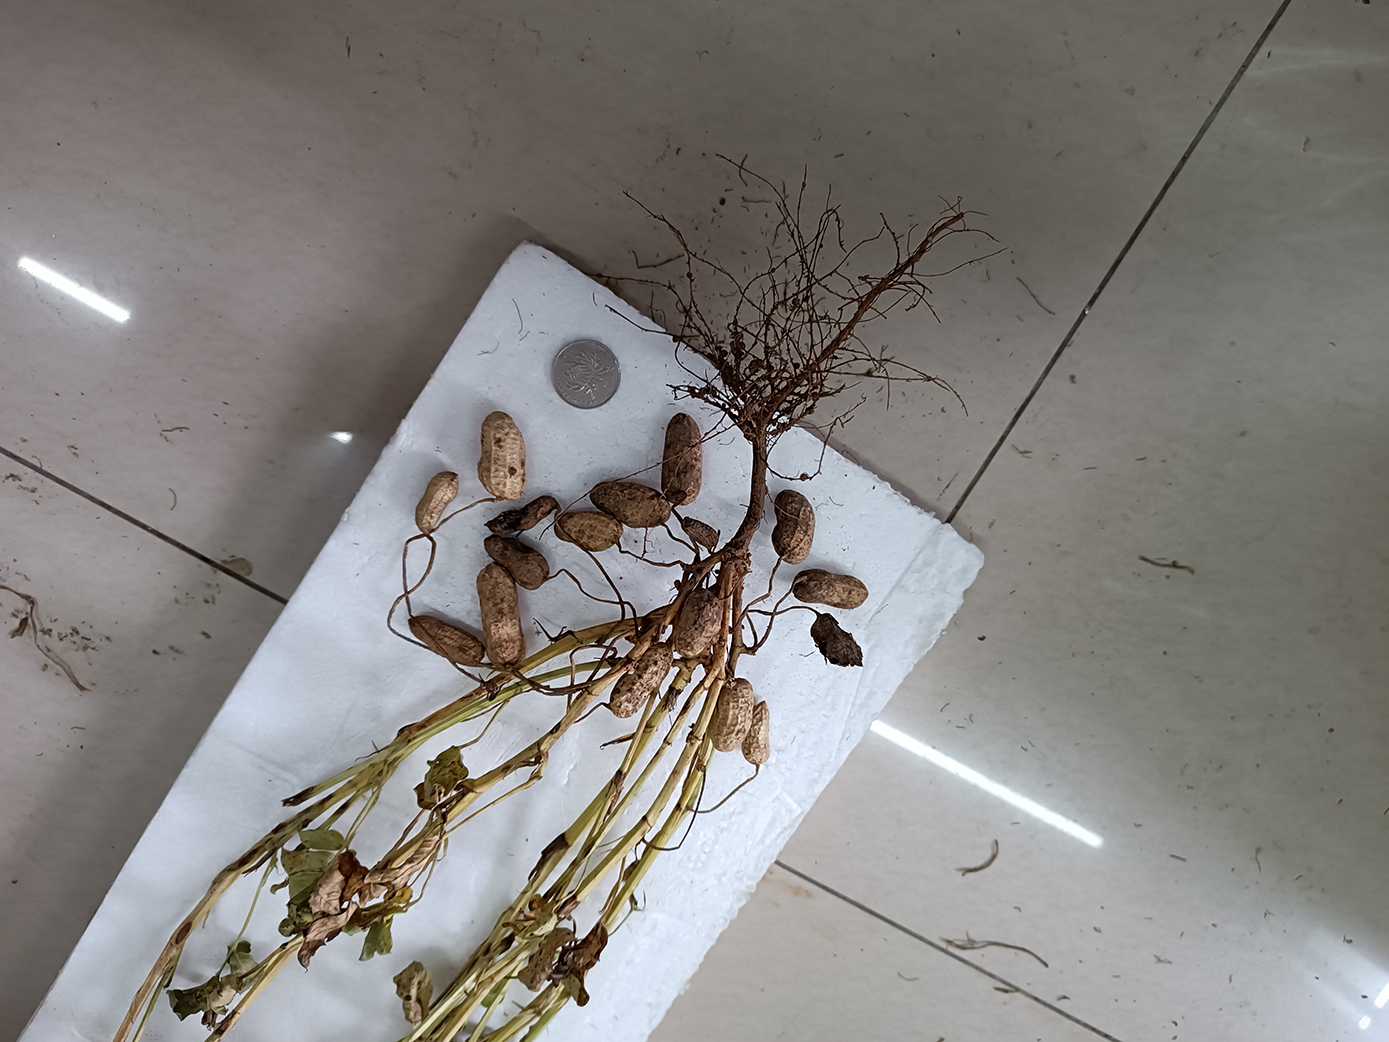h: (476, 561, 526, 670), (609, 641, 674, 719), (477, 412, 526, 501), (771, 489, 817, 566), (675, 589, 724, 659), (791, 568, 869, 610), (711, 678, 754, 753), (553, 512, 624, 552), (415, 470, 460, 531), (742, 701, 771, 765)
l: (589, 481, 671, 529), (407, 616, 485, 667), (661, 412, 702, 506), (483, 535, 549, 591), (483, 495, 562, 536), (810, 613, 864, 668), (681, 516, 719, 548)
